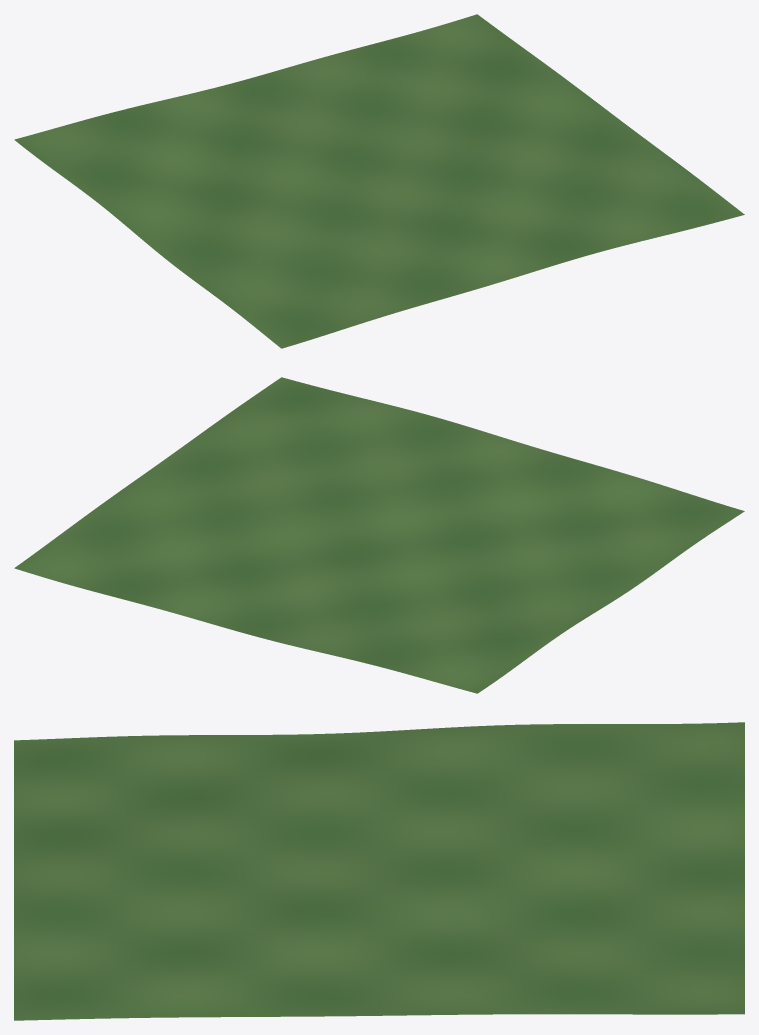
The model's file is chunk_10_1.glb.
3 views of the same model, one above another, from view 1: azimuth 30°, elevation 25°; view 2: azimuth 150°, elevation 25°; view 3: azimuth 270°, elevation 25° (orthographic). The views are drawn at different scales.
Bounding box in the file's own units: 512 × 27.09 × 512.
